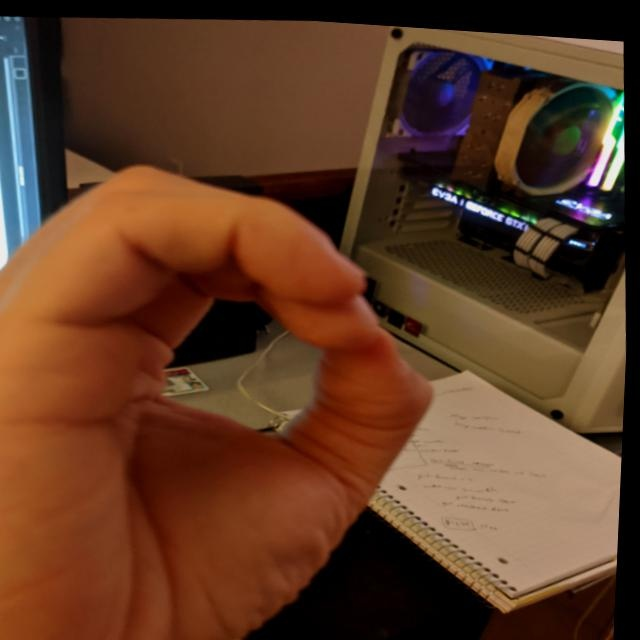O: (0, 132, 470, 639)
